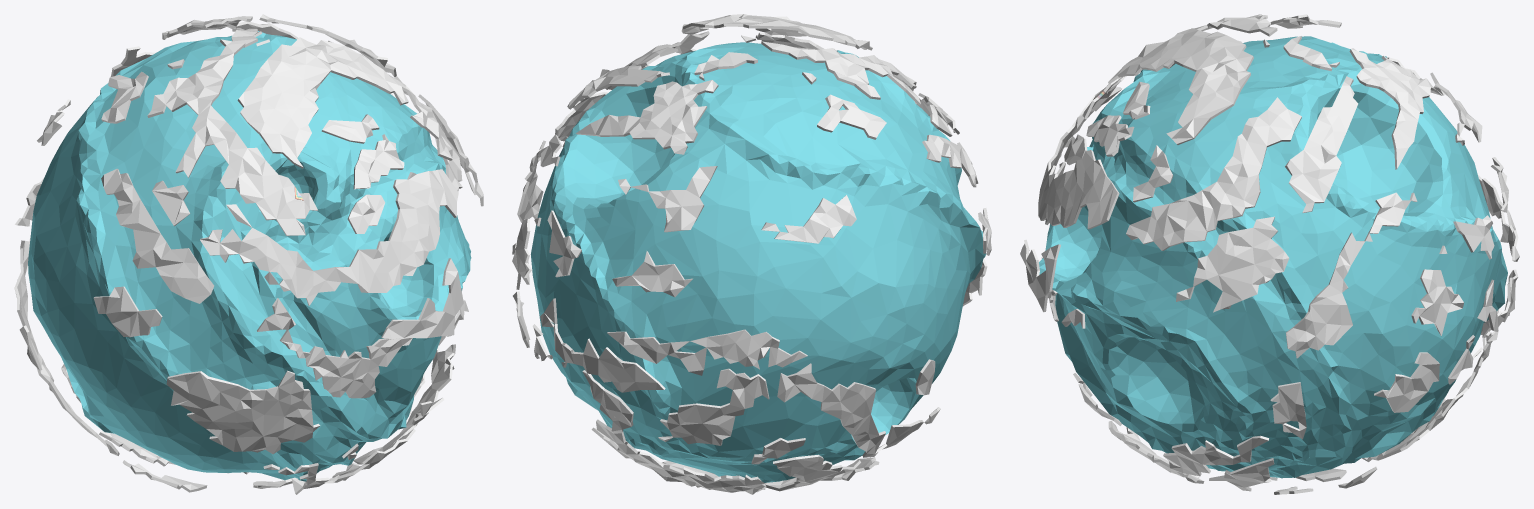
File: Planet_22.glb
3 renders of one model, left to right at view 1: azimuth 30°, elevation 25°; view 2: azimuth 150°, elevation 25°; view 3: azimuth 270°, elevation 25°, orthographic.
Parts seen in each view (by area): view 1: Planet_22; view 2: Planet_22; view 3: Planet_22.
Part boxes in pixels (box(x1,y1,x2,y2)): Planet_22: box(14, 14, 483, 494); Planet_22: box(512, 14, 991, 494); Planet_22: box(1020, 14, 1519, 494).
Size of the model in its own units: 21.56 by 21.7 by 22.68.
Materials: 1 (1 with a texture image).
